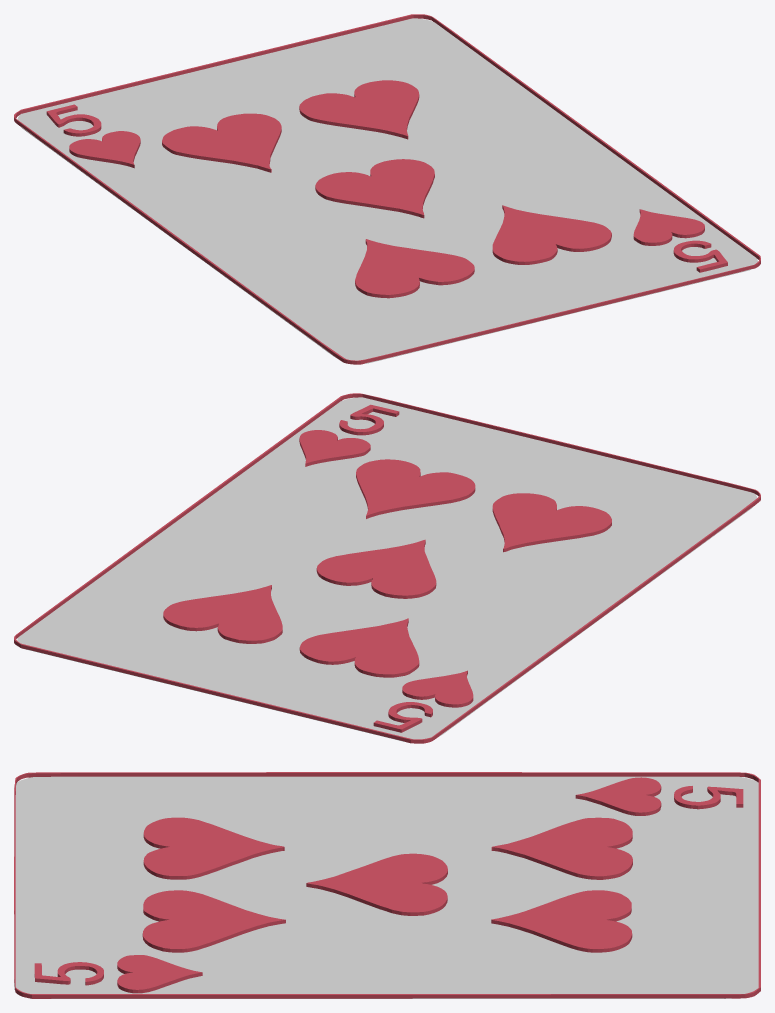
File: 5_hearts.glb
3 renders of one model, top to bottom at view 1: azimuth 30°, elevation 25°; view 2: azimuth 150°, elevation 25°; view 3: azimuth 270°, elevation 25°, orthographic. The views are drawn at different scales.
Parts seen in each view (by area): view 1: Mesh_Mesh_head_geo.001_lambert2SG.001; view 2: Mesh_Mesh_head_geo.001_lambert2SG.001; view 3: Mesh_Mesh_head_geo.001_lambert2SG.001.
Part boxes in pixels (left/top/right/bottom): Mesh_Mesh_head_geo.001_lambert2SG.001: left=14, top=14, right=760, bottom=364; Mesh_Mesh_head_geo.001_lambert2SG.001: left=14, top=393, right=760, bottom=743; Mesh_Mesh_head_geo.001_lambert2SG.001: left=14, top=772, right=760, bottom=998.
Bounding box in the file's own units: 1.2 × 0.01 × 1.7.
